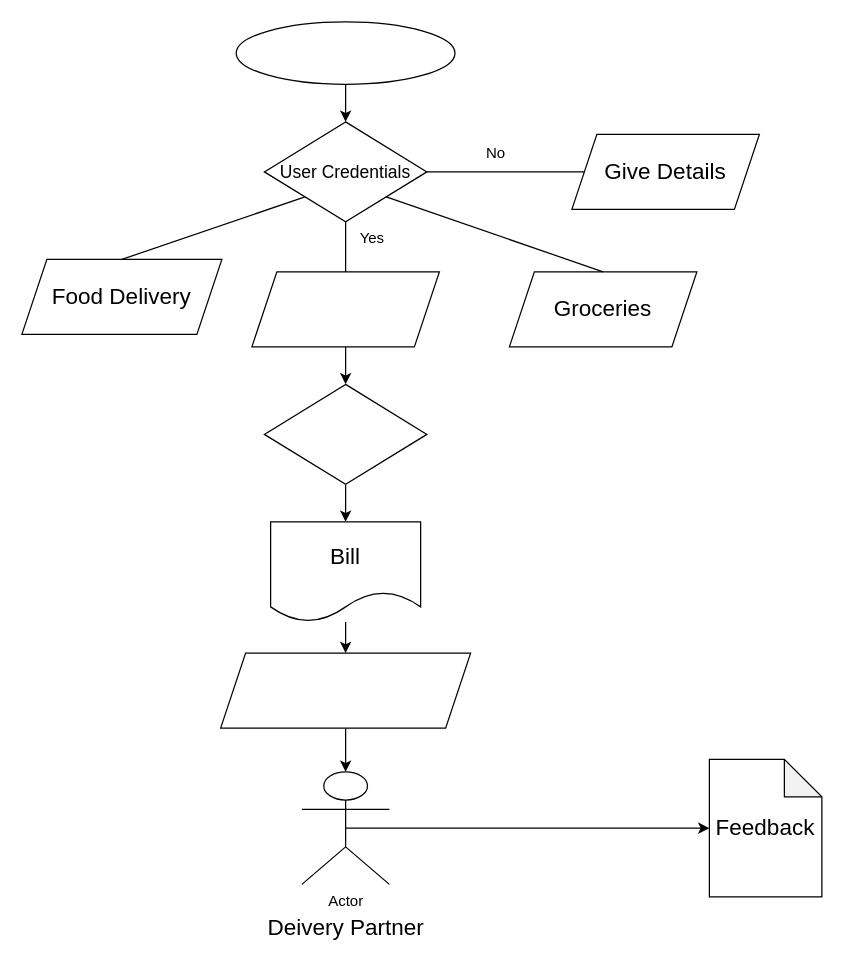
The diagram is 844 pixels wide and 975 high, and some of its shapes have lost their labels. Here are the shapes that lost their labels. From the top down, the box of each, then its label:
(235, 21, 455, 84): Login
(251, 271, 439, 347): Instamart
(263, 383, 427, 484): Confirm
(219, 652, 471, 728): Delivery Address
